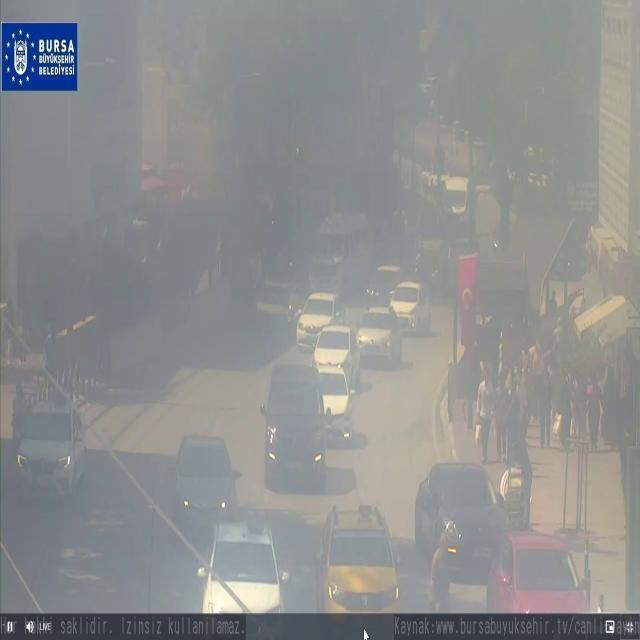Car: (414, 462, 508, 572), (198, 514, 286, 622), (317, 504, 400, 618), (168, 423, 242, 543), (487, 532, 588, 616), (260, 364, 328, 487), (13, 397, 88, 500), (312, 325, 362, 393), (313, 368, 357, 440), (296, 291, 347, 353), (354, 308, 402, 368), (388, 280, 431, 336), (260, 265, 301, 313), (367, 264, 408, 308), (306, 253, 346, 296), (436, 175, 468, 217)
